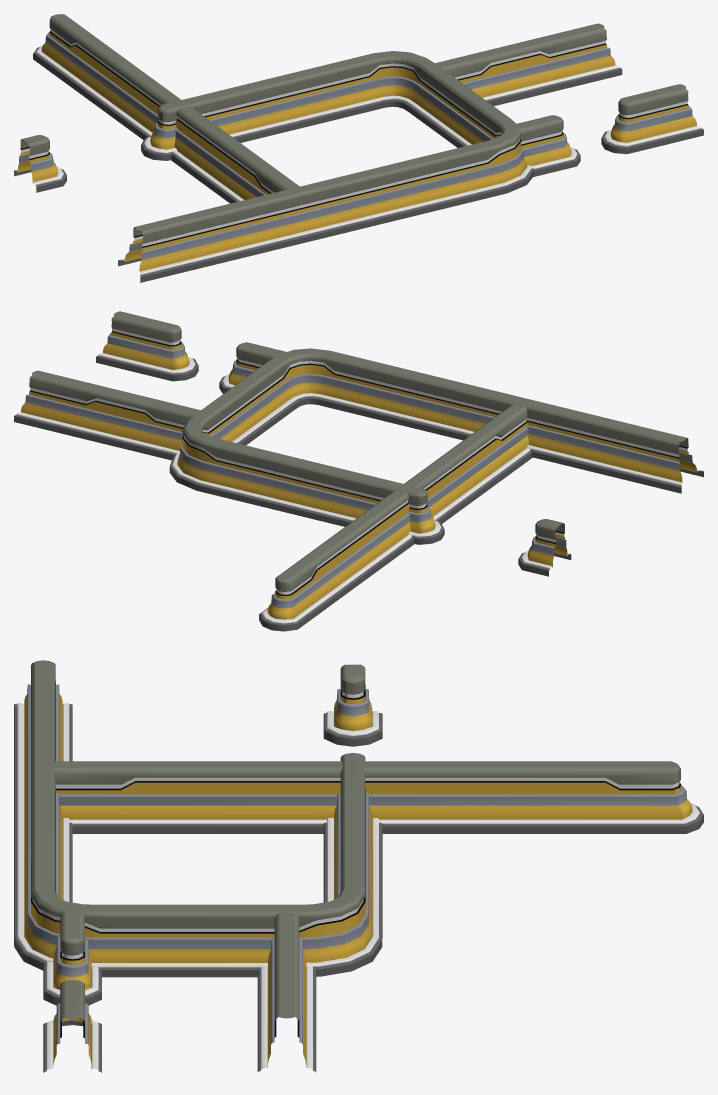
File: Level29_Small_walls.fbx
3 views of the same model, one above another, from view 1: azimuth 30°, elevation 25°; view 2: azimuth 150°, elevation 25°; view 3: azimuth 270°, elevation 25° (orthographic). The views are drawn at different scales.
Parts seen in each view (by area): view 1: Small_wall_L24, Small_wallv1_11, Small_wallvL2, Small_wallv1_39, Small_wallv1_38, Small_wall_L32; view 2: Small_wall_L24, Small_wallv1_11, Small_wallvL2, Small_wallv1_39, Small_wall_L32, Small_wallv1_38; view 3: Small_wallv1_11, Small_wall_L24, Small_wallvL2, Small_wall_L32, Small_wallv1_38, Small_wallv1_39.
Boxes of the visible parts, x1,y1,x2,y2 form: Small_wall_L24: (118, 51, 534, 282); Small_wallv1_11: (33, 14, 299, 203); Small_wallvL2: (435, 23, 622, 105); Small_wallv1_39: (601, 84, 703, 154); Small_wallv1_38: (517, 115, 580, 176); Small_wall_L32: (14, 135, 66, 192); Small_wall_L24: (169, 348, 703, 544); Small_wallv1_11: (259, 403, 532, 631); Small_wallvL2: (14, 370, 200, 460); Small_wallv1_39: (96, 311, 198, 381); Small_wall_L32: (518, 519, 571, 576); Small_wallv1_38: (219, 342, 286, 393); Small_wallv1_11: (53, 761, 703, 833); Small_wall_L24: (14, 660, 382, 977); Small_wallvL2: (257, 912, 316, 1071); Small_wall_L32: (323, 664, 382, 746); Small_wallv1_38: (43, 911, 101, 1005); Small_wallv1_39: (43, 980, 101, 1072).
Size of the model in its own units: 509 by 37.91 by 404.
